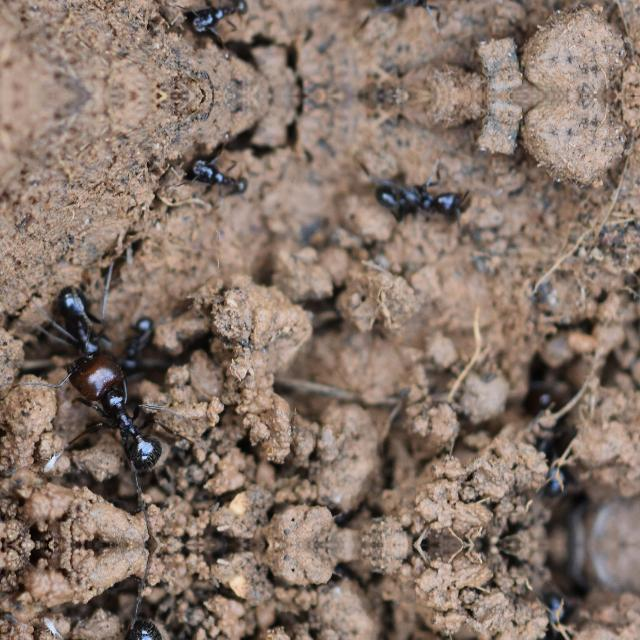Messor: (64, 346, 166, 489), (48, 277, 124, 377), (365, 165, 475, 225), (64, 598, 166, 640), (186, 152, 258, 210), (365, 0, 475, 25), (186, 0, 257, 38)
